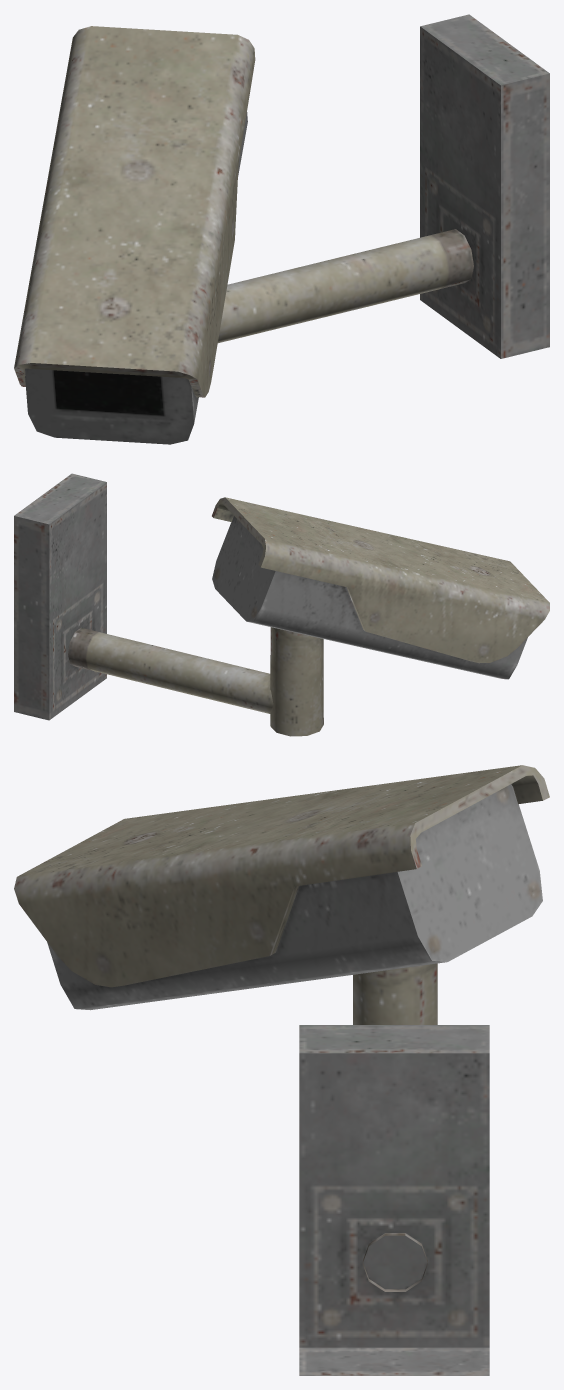
The model's file is Camera_01a_snaps011.fbx.
3 views of the same model, one above another, from view 1: azimuth 30°, elevation 25°; view 2: azimuth 150°, elevation 25°; view 3: azimuth 270°, elevation 25° (orthographic). The views are drawn at different scales.
Visible parts, largest first — view 1: Camera_01a_snaps011_LOD0; view 2: Camera_01a_snaps011_LOD0; view 3: Camera_01a_snaps011_LOD0.
Boxes of the visible parts, box(x1,y1,x2,y2) form: Camera_01a_snaps011_LOD0: box(14, 14, 549, 444); Camera_01a_snaps011_LOD0: box(14, 473, 549, 736); Camera_01a_snaps011_LOD0: box(14, 765, 549, 1375).
Size of what is drawn, in the model's own units: 49.07 by 26.66 by 32.27.
